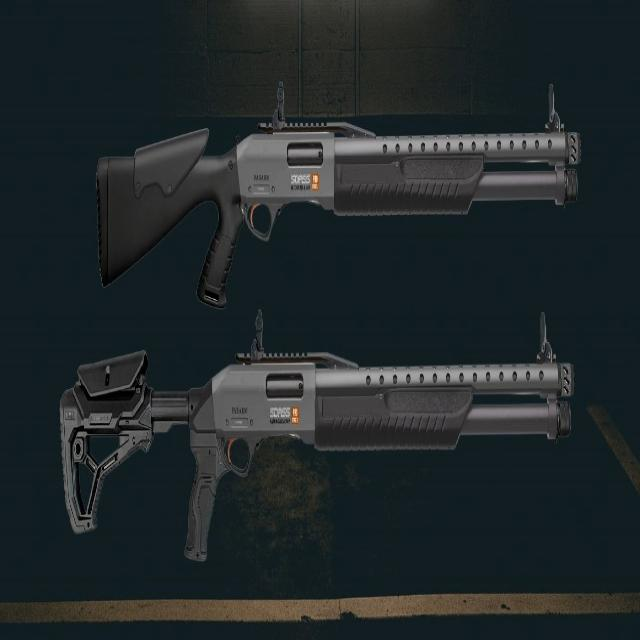ShotGun: (59, 311, 572, 563), (96, 83, 581, 309)
